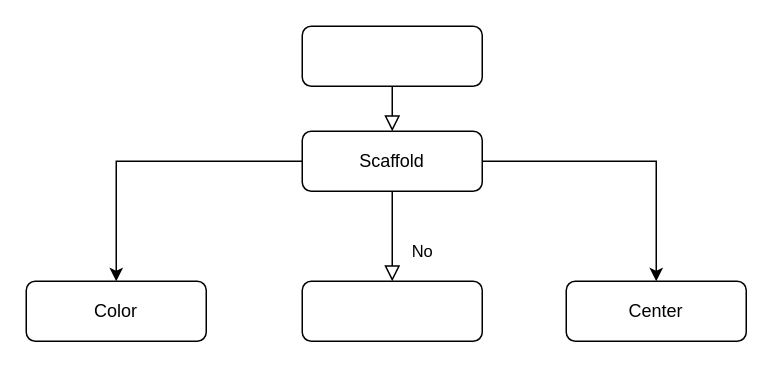
Some shapes in this 773 by 368 pixel diagram are drawn without their labels. The shapes that lost their labels are listed below. From the top down, each one's centre as x and y in pixels, then its label:
point (391, 55): Material App
point (391, 310): AppBar
